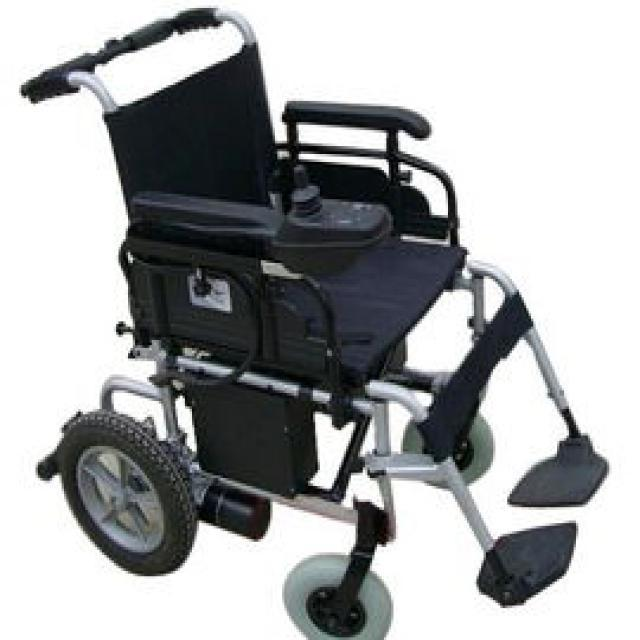wheelchair: (16, 0, 610, 638)
